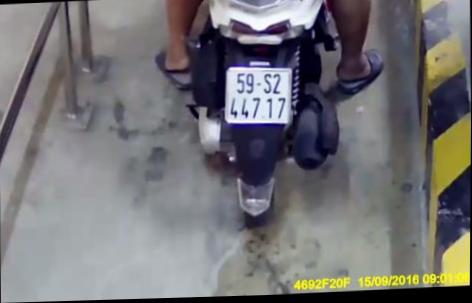LP: (223, 65, 293, 130)
